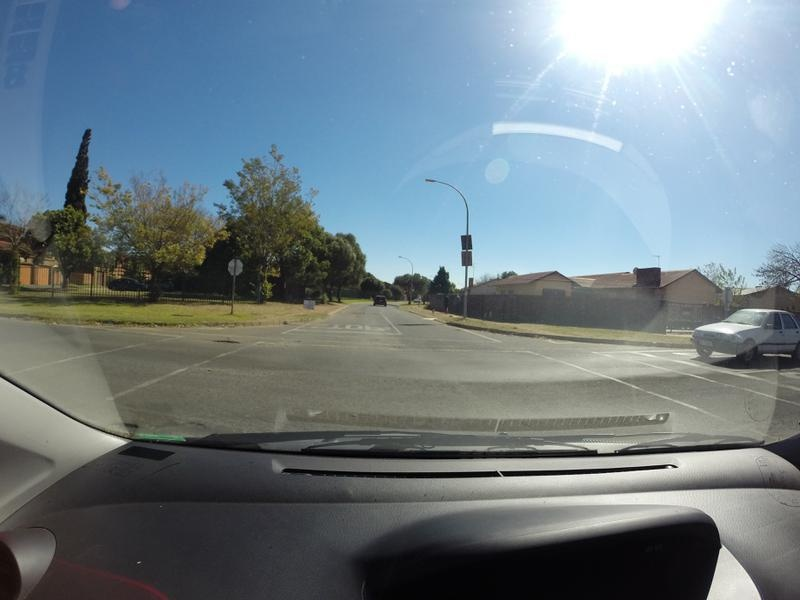pothole: (155, 414, 212, 436), (108, 421, 135, 432), (208, 338, 241, 343)
